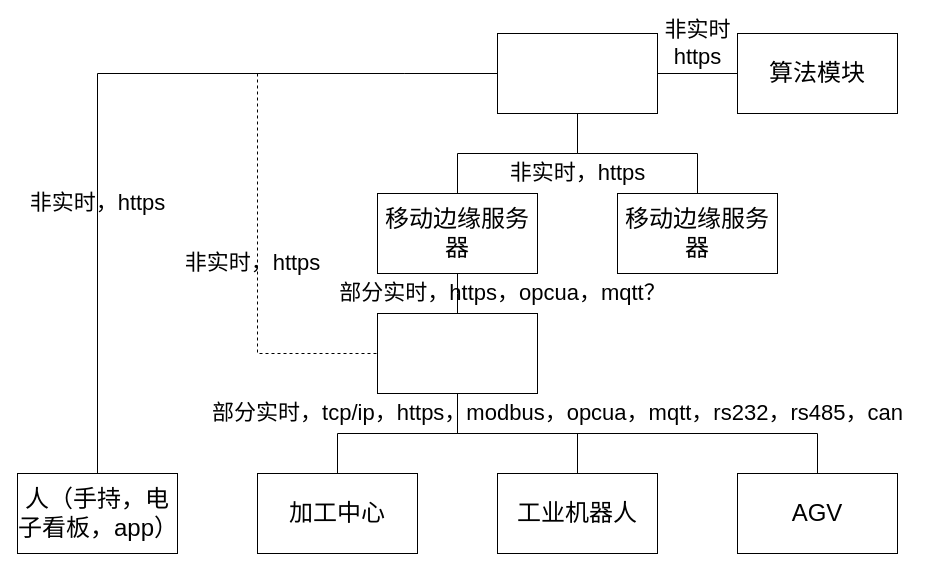
This 930x571 diagram has some shape labels left out. Here are the shapes that lost their labels. From the top down, the centre of each, then its label:
At point (577, 73): "移动云".
At point (457, 353): "中间层协议转换网关".
